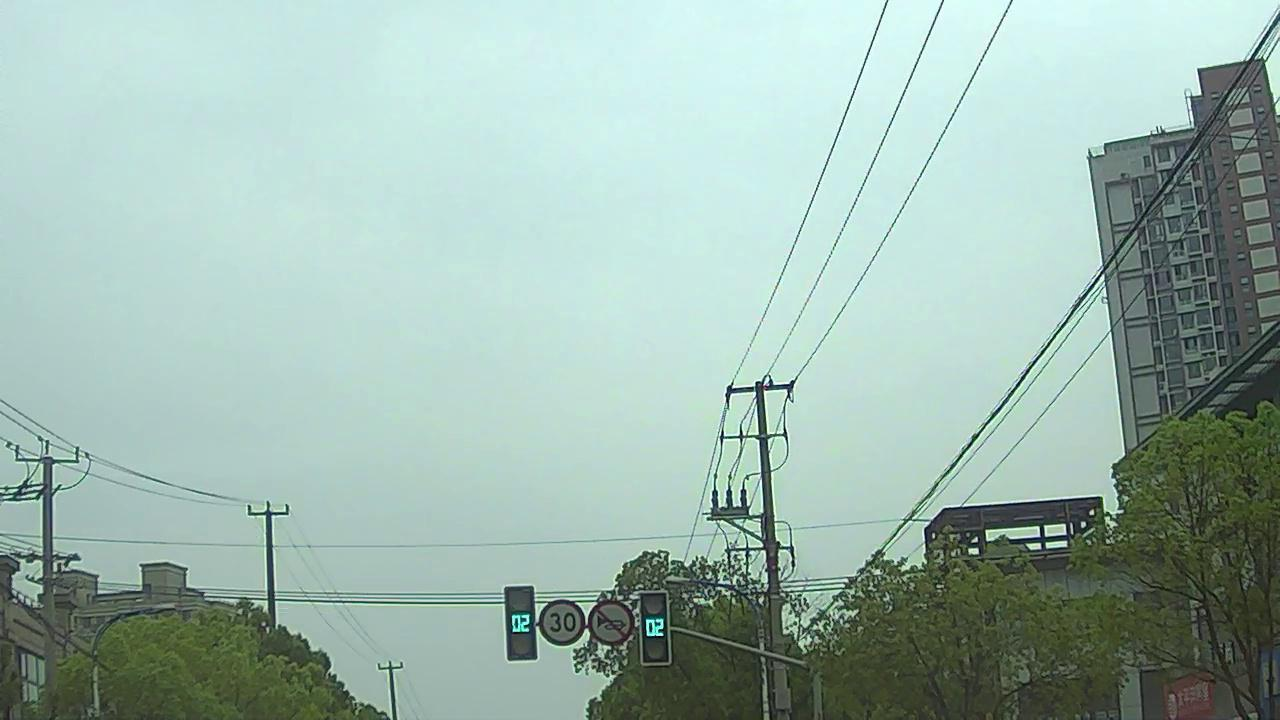traffic_light: (504, 585, 536, 657), (641, 594, 668, 666)
